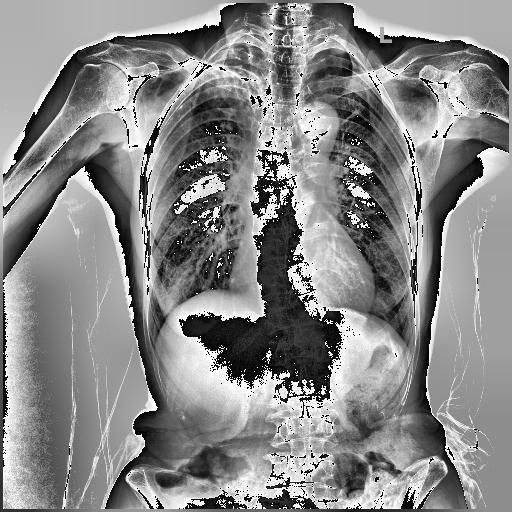0- Aortic enlargement: (294, 98, 340, 156), (296, 100, 340, 151), (296, 102, 338, 146)
11- Pleural thickening: (326, 48, 348, 56), (226, 43, 254, 48)
13- Pulmonary fibrosis: (188, 28, 266, 122), (180, 44, 262, 130), (198, 42, 260, 134)
2- Calcification: (318, 124, 334, 136)
3- Cardiomegaly: (226, 242, 374, 314), (228, 260, 376, 314)
5- ILD: (160, 211, 222, 308)
9- Other lesion: (246, 171, 291, 303)
